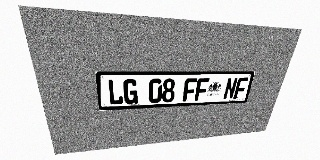0: (148, 79, 163, 103)
8: (162, 78, 176, 103)
F: (182, 78, 197, 101), (194, 78, 209, 101), (233, 78, 248, 99)
G: (123, 79, 138, 104)
L: (107, 79, 123, 105)
N: (223, 78, 238, 99)
